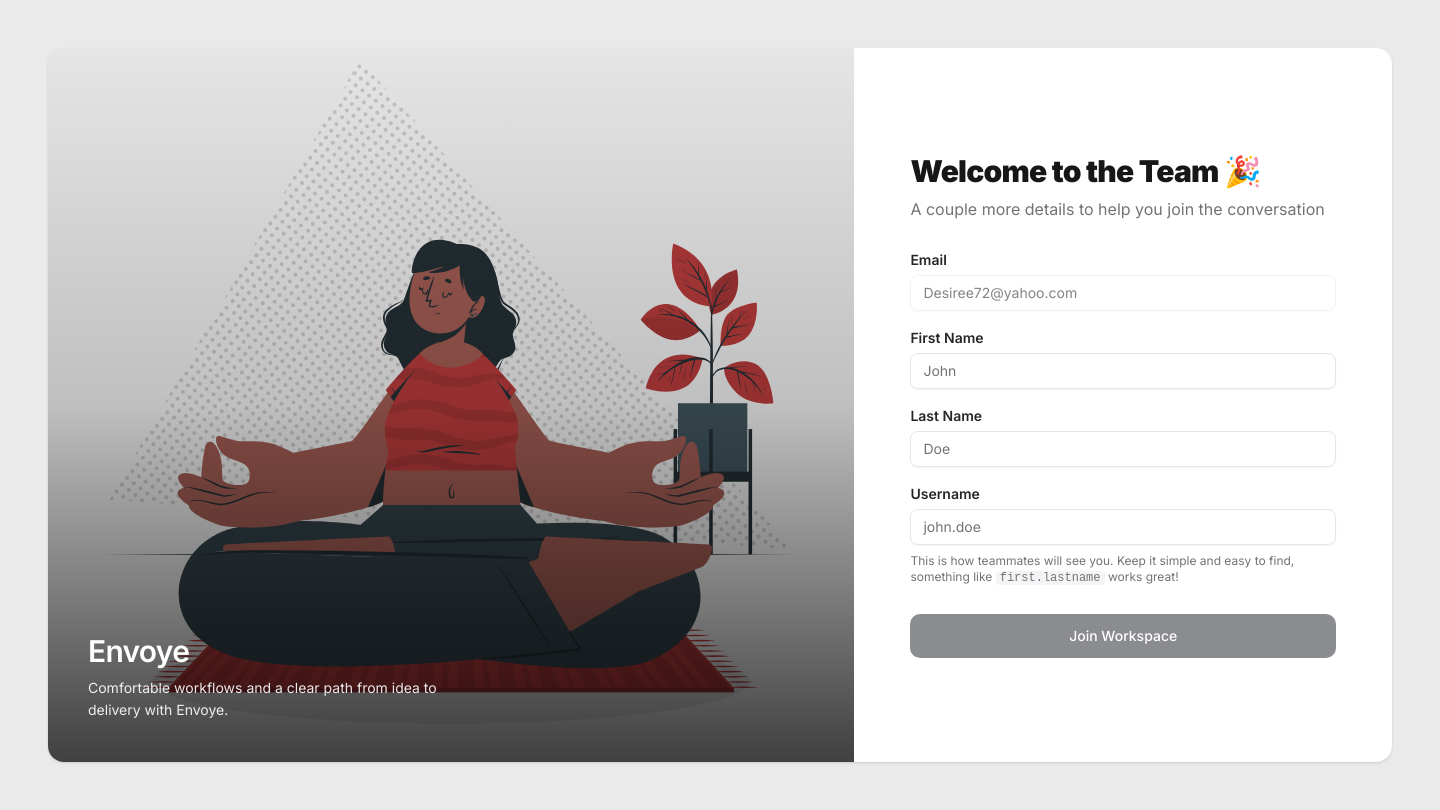
AcceptInvite › username availability check › shows username available icon when the username is free (200)
This screenshot has width=1440, height=810.
Type "jo" into the field with test id "teammate-username" at (1117, 526), box [911,508,1323,544]
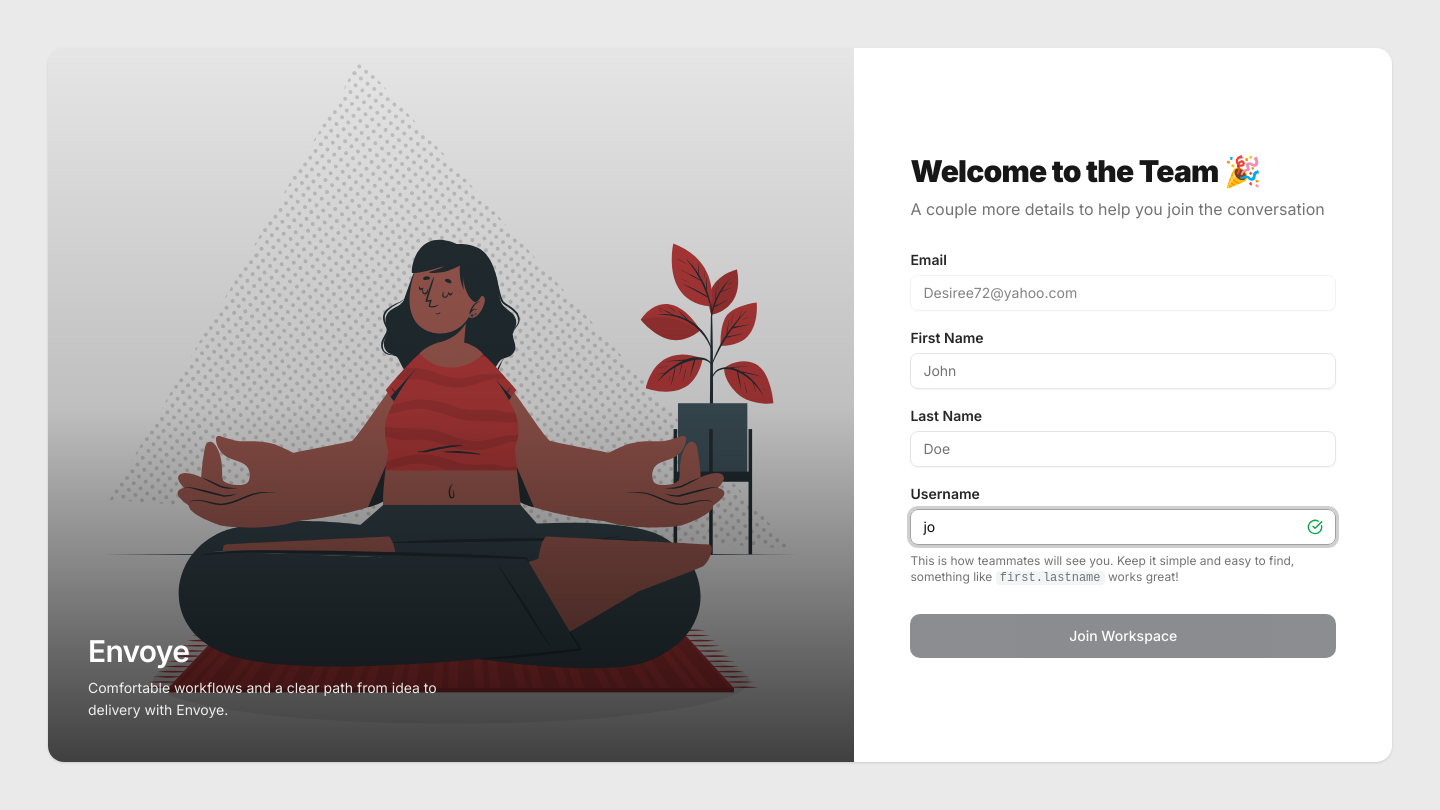
Result: the icon with test id "username-available" is shown at [1307,518,1323,534]
